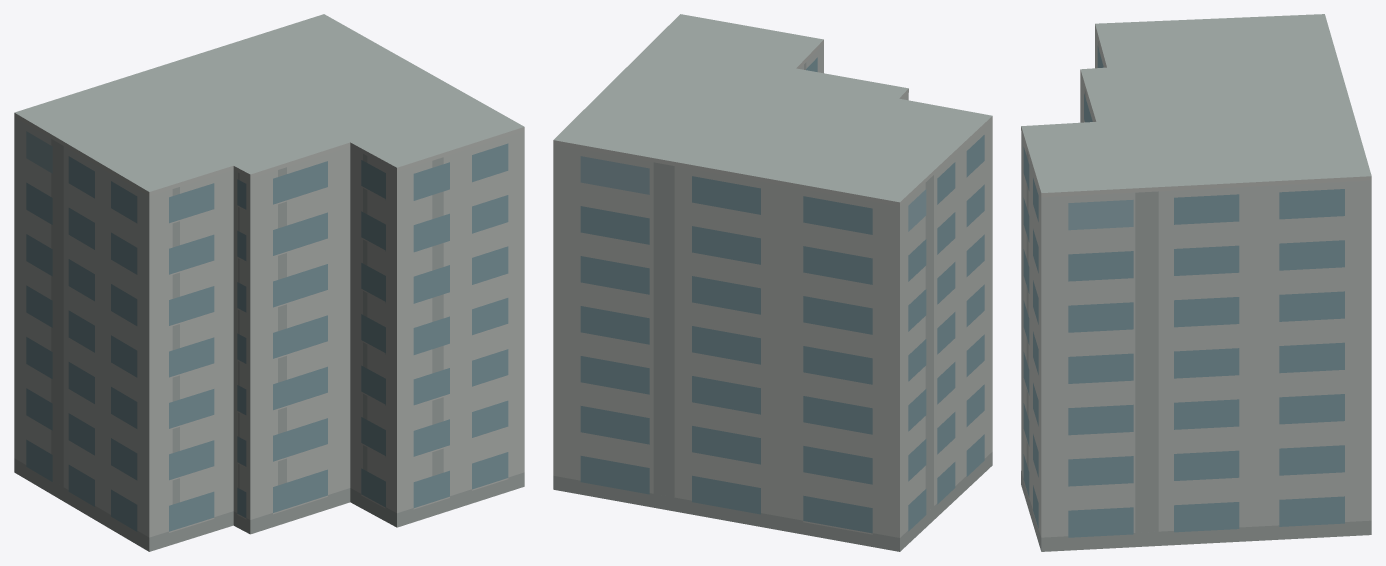
File: survey-upis-32718415.glb
3 renders of one model, left to right at view 1: azimuth 30°, elevation 25°; view 2: azimuth 150°, elevation 25°; view 3: azimuth 270°, elevation 25°, orthographic. The views are drawn at different scales.
Parts seen in each view (by area): view 1: survey-upis-32718415.tmp; view 2: survey-upis-32718415.tmp; view 3: survey-upis-32718415.tmp.
Part boxes in pixels (x1,y1,x2,y2): survey-upis-32718415.tmp: (14, 14, 524, 551); survey-upis-32718415.tmp: (553, 14, 992, 551); survey-upis-32718415.tmp: (1021, 14, 1371, 551).
Size of the model in its own units: 21.64 by 20.2 by 17.9.
